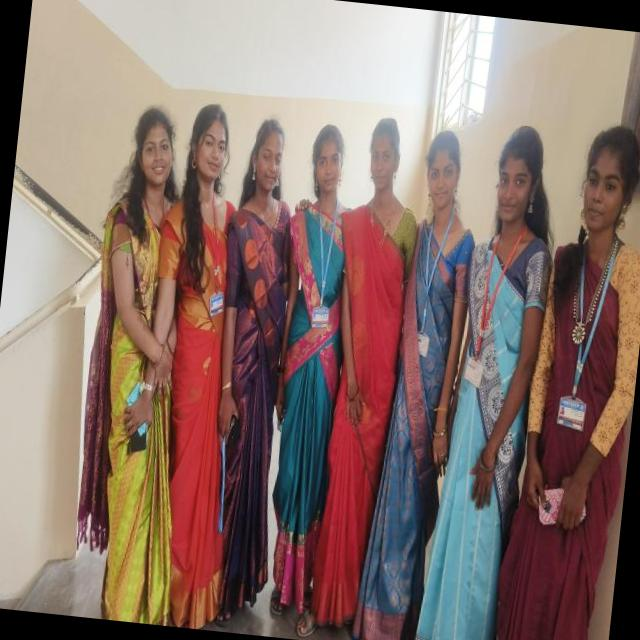id_card: (554, 232, 616, 433), (462, 219, 522, 394), (408, 205, 455, 356), (193, 178, 235, 316), (306, 193, 342, 324)
